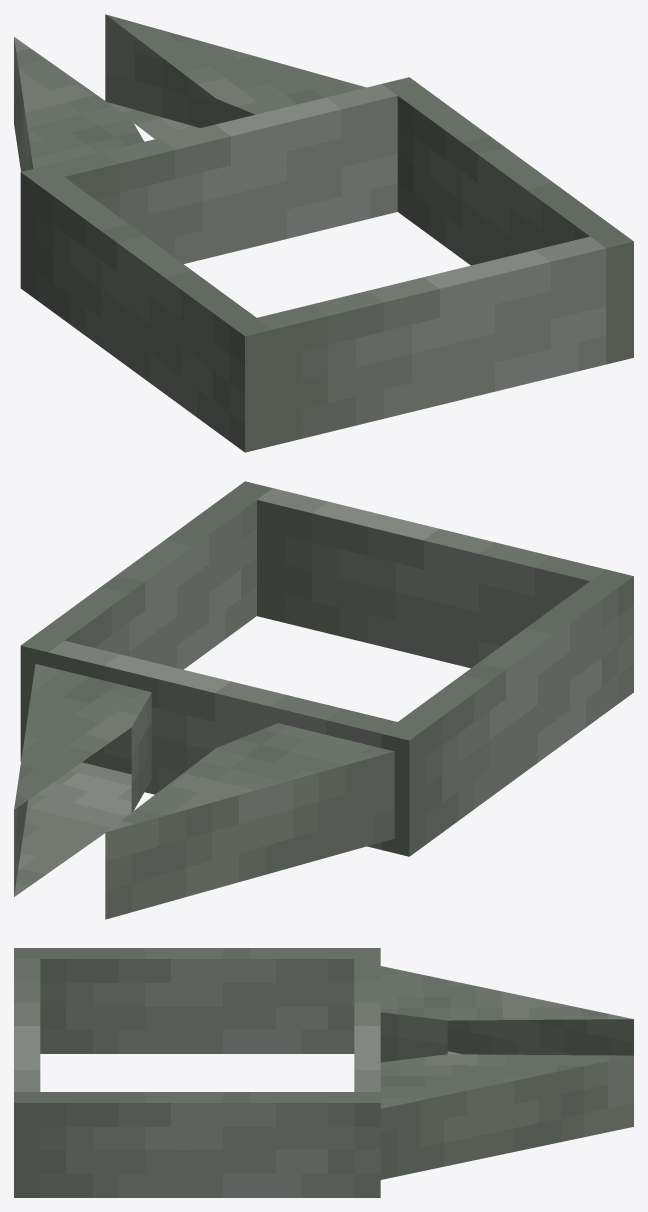
File: cantilever_bracket_bracket.obj
3 renders of one model, top to bottom at view 1: azimuth 30°, elevation 25°; view 2: azimuth 150°, elevation 25°; view 3: azimuth 270°, elevation 25°, orthographic. The views are drawn at different scales.
Parts seen in each view (by area): view 1: cube4, cube3, cube5, cube1, cube9, cube8; view 2: cube4, cube8, cube5, cube1, cube9, cube3, cube6; view 3: cube1, cube5, cube9, cube8, cube4, cube3, cube6.
Boxes of the visible parts, x1,y1,x2,y2 form: cube4: (257, 236, 606, 445); cube3: (48, 84, 397, 263); cube5: (20, 165, 272, 452); cube1: (397, 89, 633, 364); cube9: (105, 14, 366, 138); cube8: (14, 37, 144, 171); cube4: (257, 488, 605, 668); cube8: (105, 723, 394, 919); cube5: (381, 569, 633, 856); cube1: (37, 481, 272, 669); cube9: (14, 664, 151, 896); cube3: (48, 640, 397, 849); cube6: (20, 634, 63, 761); cube1: (14, 1092, 354, 1197); cube5: (14, 948, 380, 1053); cube9: (380, 1054, 633, 1179); cube8: (380, 966, 633, 1062); cube4: (14, 959, 40, 1091); cube3: (354, 959, 380, 1091); cube6: (354, 1092, 380, 1197).
Size of the model in its own units: 0.875 by 0.25 by 1.48.
